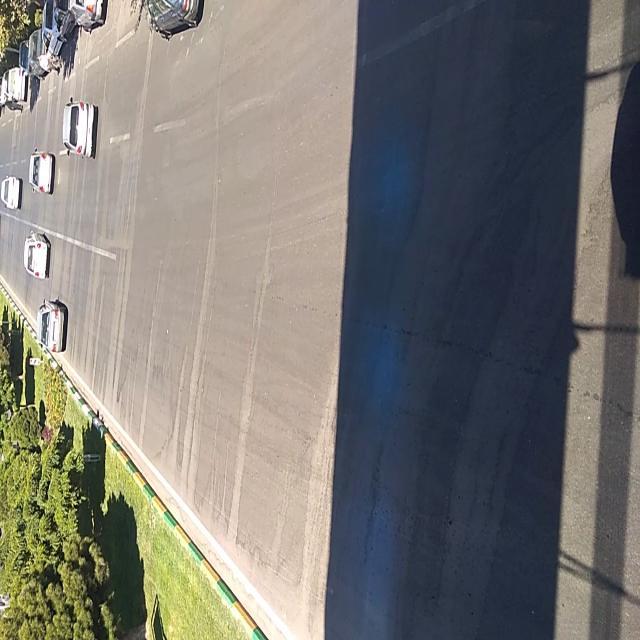car: (59, 98, 100, 162), (37, 300, 67, 350), (26, 150, 58, 196), (24, 230, 50, 279)
